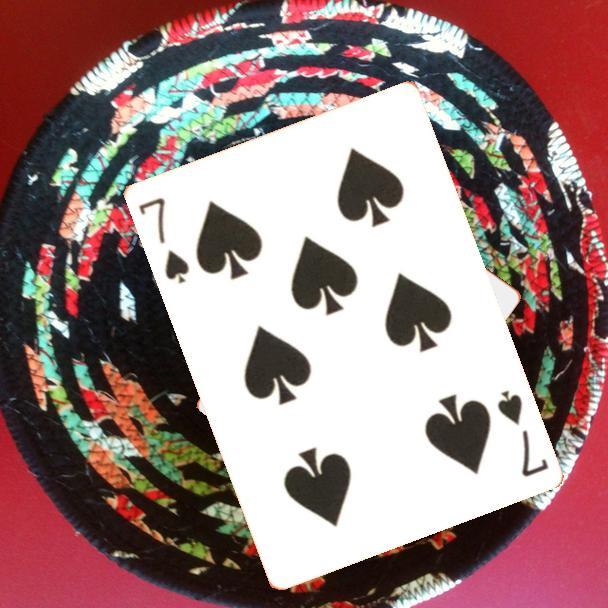s07: (493, 386, 551, 480), (134, 193, 192, 286)
